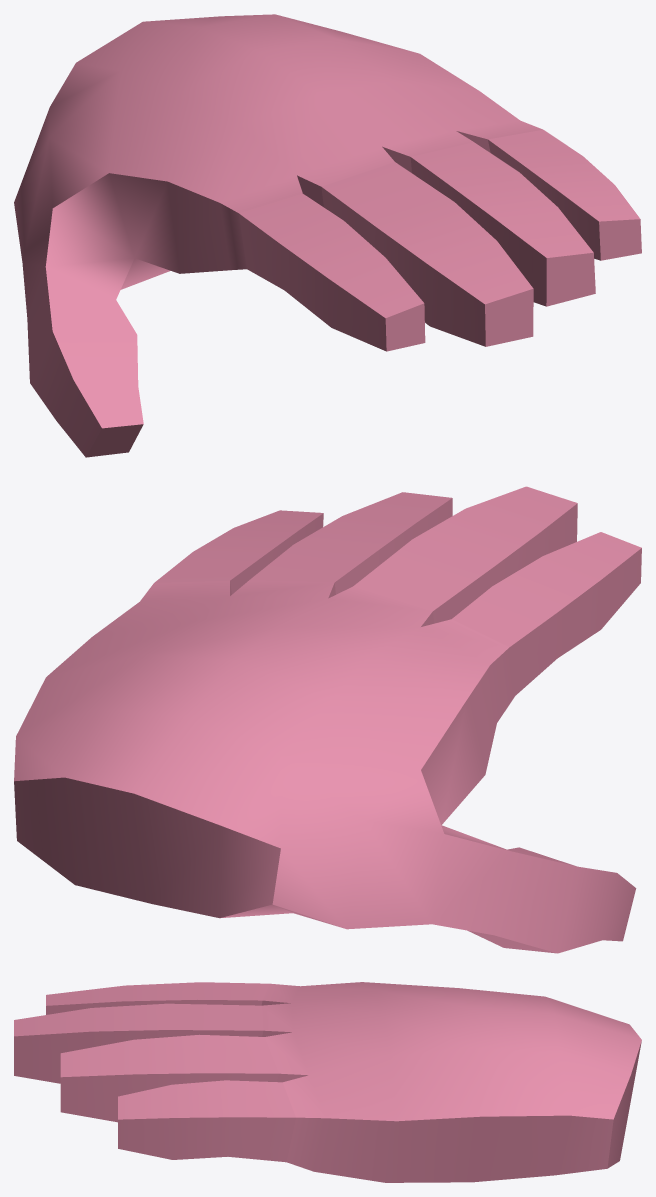
File: SM_Hand_Low.fbx
The picture shows the model from 3 angles, top to bottom: view 1: azimuth 30°, elevation 25°; view 2: azimuth 150°, elevation 25°; view 3: azimuth 270°, elevation 25°; orthographic projection. The views are drawn at different scales.
Visible parts, largest first — view 1: Hand_Low; view 2: Hand_Low; view 3: Hand_Low.
Boxes of the visible parts, x1=… form: Hand_Low: x1=14, y1=14, x2=641, y2=457; Hand_Low: x1=14, y1=486, x2=641, y2=953; Hand_Low: x1=14, y1=982, x2=641, y2=1182.
Size of the model in its own units: 20.4 by 11.57 by 29.29.
